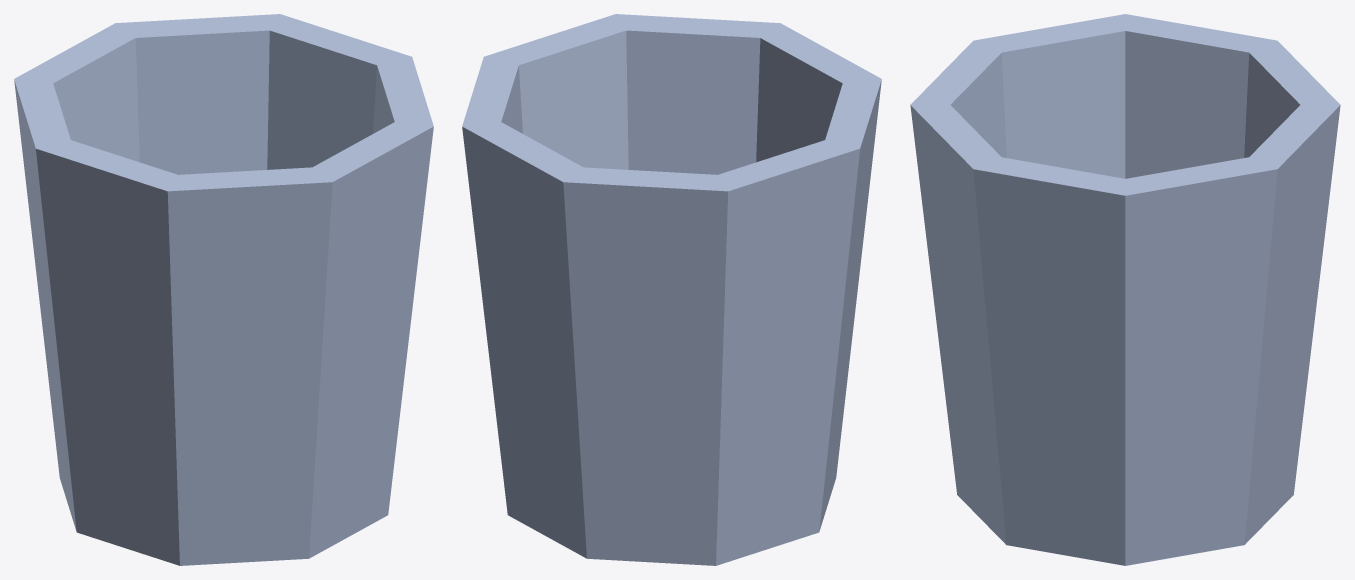
Rendered from Mug.fbx.
3 renders of one model, left to right at view 1: azimuth 30°, elevation 25°; view 2: azimuth 150°, elevation 25°; view 3: azimuth 270°, elevation 25°, orthographic.
Parts seen in each view (by area): view 1: Mug; view 2: Mug; view 3: Mug.
Part boxes in pixels (x1,y1,x2,y2): Mug: (14,14,433,565); Mug: (462,14,881,565); Mug: (910,14,1340,565).
Size of the model in its own units: 48.89 by 48.89 by 48.89.
